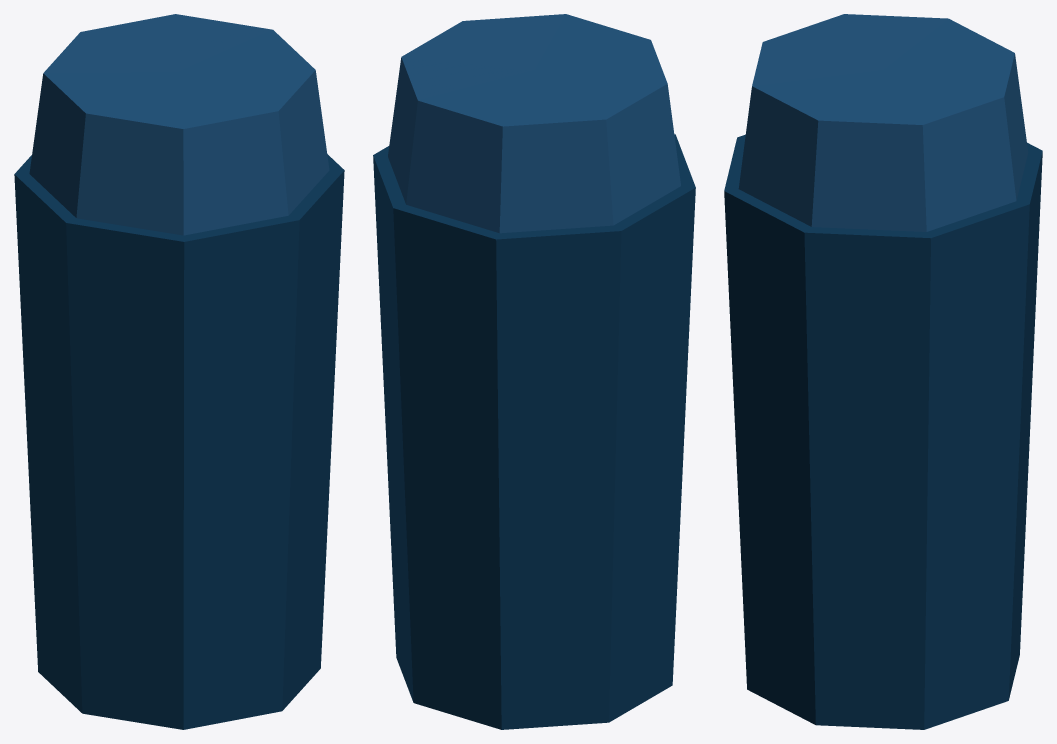
The model's file is Container_Small.fbx.
The picture shows the model from 3 angles, left to right: view 1: azimuth 30°, elevation 25°; view 2: azimuth 150°, elevation 25°; view 3: azimuth 270°, elevation 25°; orthographic projection.
Parts seen in each view (by area): view 1: Cylinder.011; view 2: Cylinder.011; view 3: Cylinder.011.
Boxes of the visible parts, x1,y1,x2,y2 form: Cylinder.011: [14, 14, 344, 729]; Cylinder.011: [373, 14, 695, 729]; Cylinder.011: [724, 14, 1042, 729].
Size of the model in its own units: 8.66 by 18.07 by 8.66.
